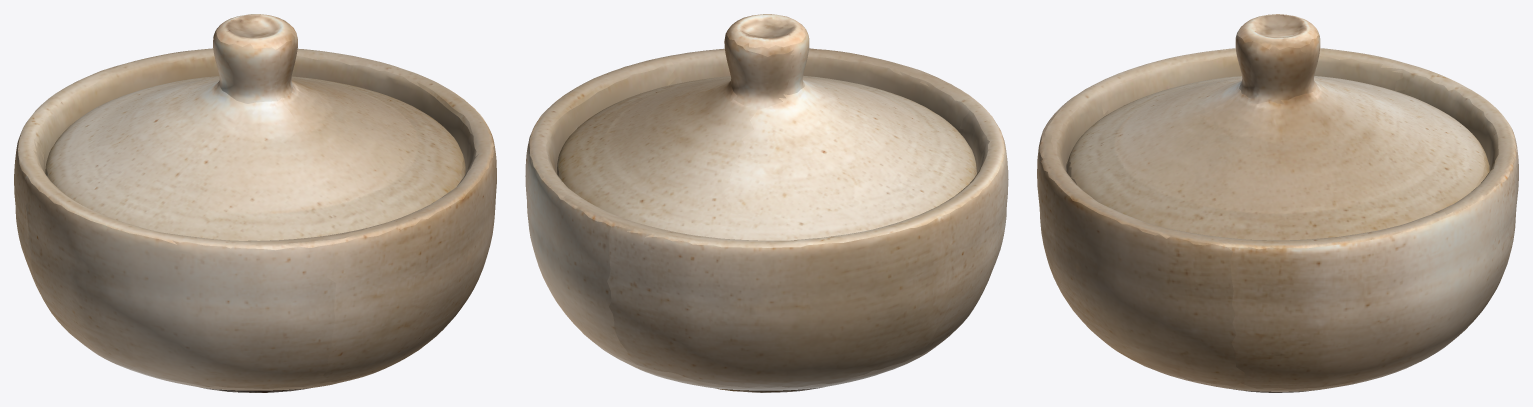
File: L01-bowl-refined-001.glb
3 renders of one model, left to right at view 1: azimuth 30°, elevation 25°; view 2: azimuth 150°, elevation 25°; view 3: azimuth 270°, elevation 25°, orthographic.
Visible parts, largest first — view 1: geometry_0; view 2: geometry_0; view 3: geometry_0.
Boxes of the visible parts, x1,y1,x2,y2 form: geometry_0: [14, 14, 496, 392]; geometry_0: [525, 14, 1008, 392]; geometry_0: [1037, 14, 1518, 392].
Size of the model in its own units: 0.12 by 0.0857 by 0.1198.
Materials: 1 (1 with a texture image).
